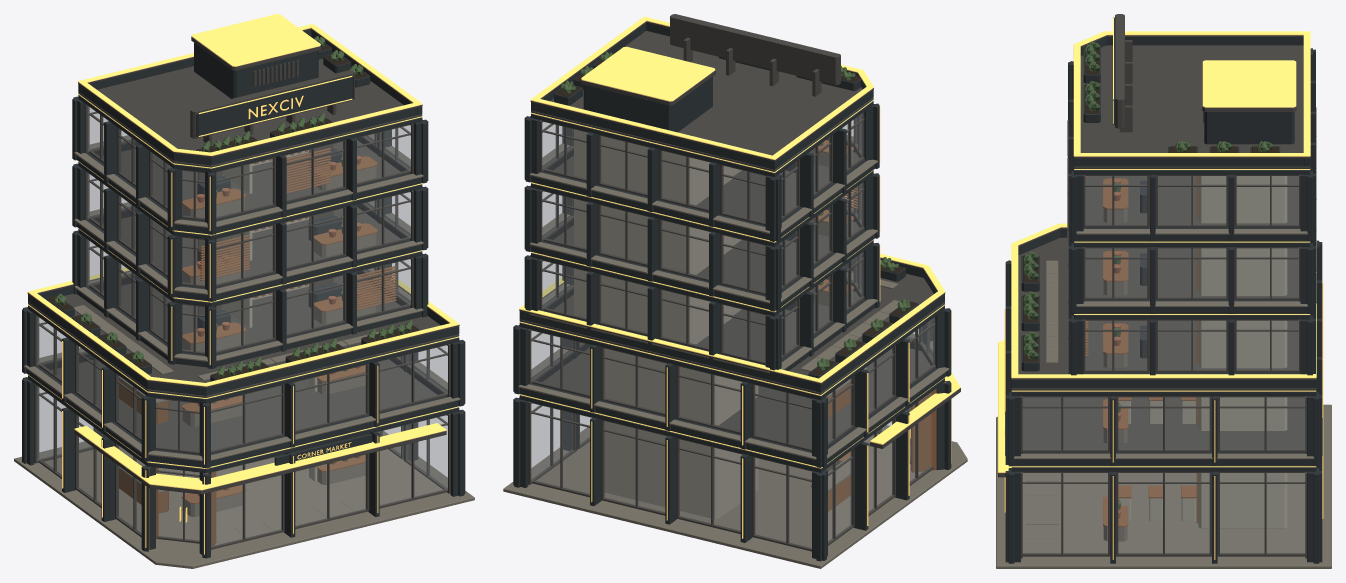
File: corner-market-detail.glb
The picture shows the model from 3 angles, left to right: view 1: azimuth 30°, elevation 25°; view 2: azimuth 150°, elevation 25°; view 3: azimuth 270°, elevation 25°; orthographic projection. The views are drawn at different scales.
Parts seen in each view (by area): view 1: NEXCIV city, Market | Level 0.13 recessed glazing and frames.001, Market | Level 4.12 recessed glazing and frames.001, Market | Level 7.22 recessed glazing and frames.001, Market | Level 13.16 recessed glazing and frames.001, Market | Level 10.19 recessed glazing and frames.001, NEXCIV detail; view 2: NEXCIV city, Market | Level 0.13 recessed glazing and frames.001, Market | Level 4.12 recessed glazing and frames.001, Market | Level 13.16 recessed glazing and frames.001, Market | Level 10.19 recessed glazing and frames.001, Market | Level 7.22 recessed glazing and frames.001; view 3: NEXCIV city, Market | Level 0.13 recessed glazing and frames.001, Market | Level 4.12 recessed glazing and frames.001, Market | Level 7.22 recessed glazing and frames.001, Market | Level 13.16 recessed glazing and frames.001, Market | Level 10.19 recessed glazing and frames.001, NEXCIV detail.
Boxes of the visible parts, left/top/right/bottom form: NEXCIV city: left=14, top=14, right=474, bottom=568; Market | Level 0.13 recessed glazing and frames.001: left=34, top=384, right=450, bottom=549; Market | Level 4.12 recessed glazing and frames.001: left=34, top=314, right=450, bottom=454; Market | Level 7.22 recessed glazing and frames.001: left=84, top=237, right=413, bottom=354; Market | Level 13.16 recessed glazing and frames.001: left=84, top=103, right=413, bottom=220; Market | Level 10.19 recessed glazing and frames.001: left=84, top=170, right=413, bottom=287; NEXCIV detail: left=197, top=155, right=361, bottom=496; NEXCIV city: left=503, top=14, right=967, bottom=568; Market | Level 0.13 recessed glazing and frames.001: left=528, top=393, right=933, bottom=551; Market | Level 4.12 recessed glazing and frames.001: left=528, top=316, right=935, bottom=451; Market | Level 13.16 recessed glazing and frames.001: left=539, top=112, right=864, bottom=225; Market | Level 10.19 recessed glazing and frames.001: left=539, top=181, right=864, bottom=294; Market | Level 7.22 recessed glazing and frames.001: left=539, top=251, right=864, bottom=364; NEXCIV city: left=996, top=14, right=1331, bottom=568; Market | Level 0.13 recessed glazing and frames.001: left=1021, top=471, right=1306, bottom=558; Market | Level 4.12 recessed glazing and frames.001: left=1021, top=396, right=1306, bottom=453; Market | Level 7.22 recessed glazing and frames.001: left=1083, top=319, right=1300, bottom=373; Market | Level 13.16 recessed glazing and frames.001: left=1083, top=174, right=1300, bottom=228; Market | Level 10.19 recessed glazing and frames.001: left=1083, top=247, right=1300, bottom=301; NEXCIV detail: left=1114, top=178, right=1121, bottom=518.
Bounding box in the file's own units: 14.2 × 17.86 × 12.47.
